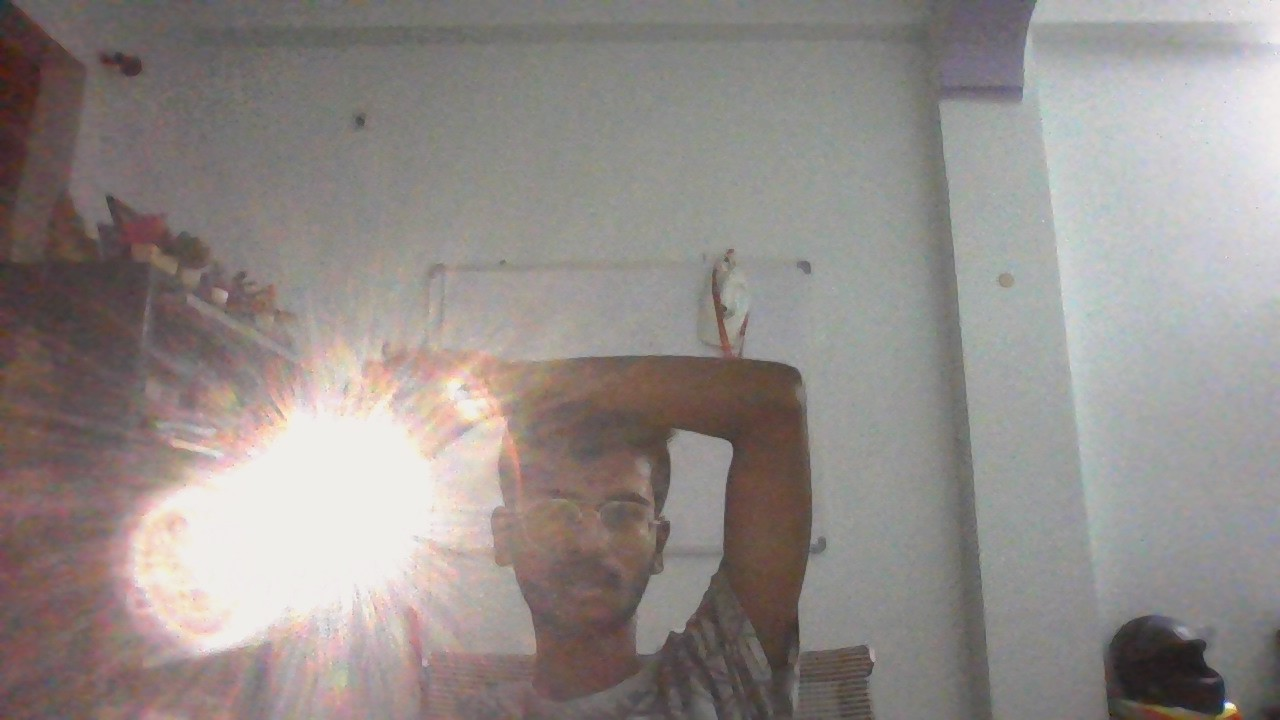Glare: (173, 389, 430, 639)
